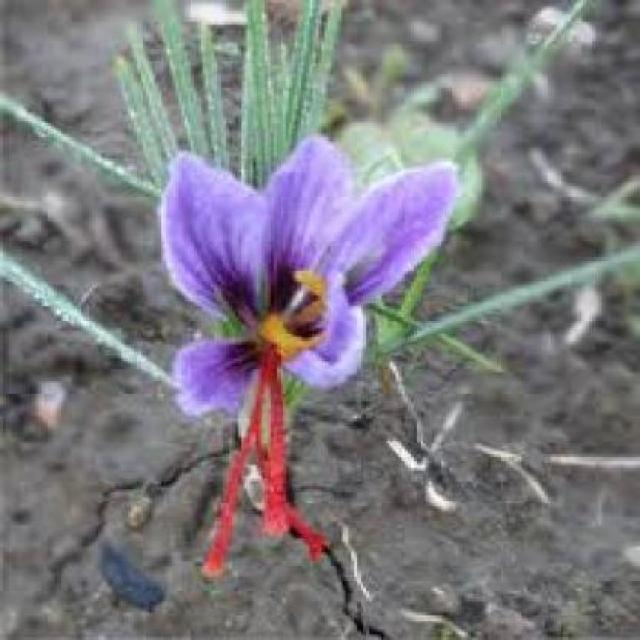Flower: (154, 138, 460, 416)
stigma: (250, 384, 337, 564), (196, 370, 267, 584), (257, 356, 289, 544)
